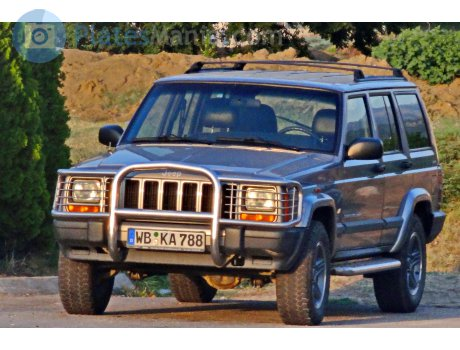License Plates: (137, 229, 202, 246)
